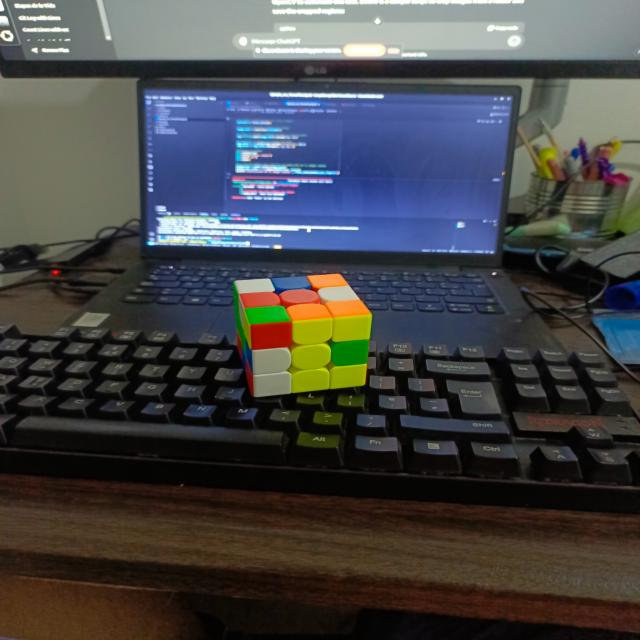rubik: (230, 272, 374, 398)
